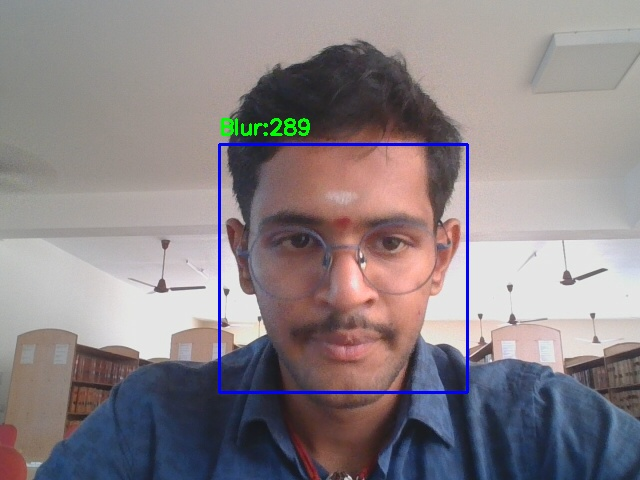real: (219, 144, 467, 392)
